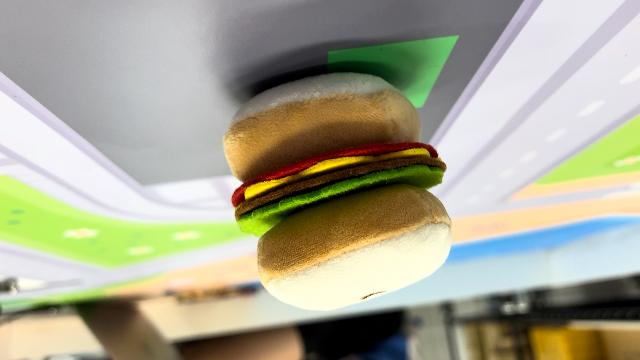sandwich: (220, 68, 456, 312)
